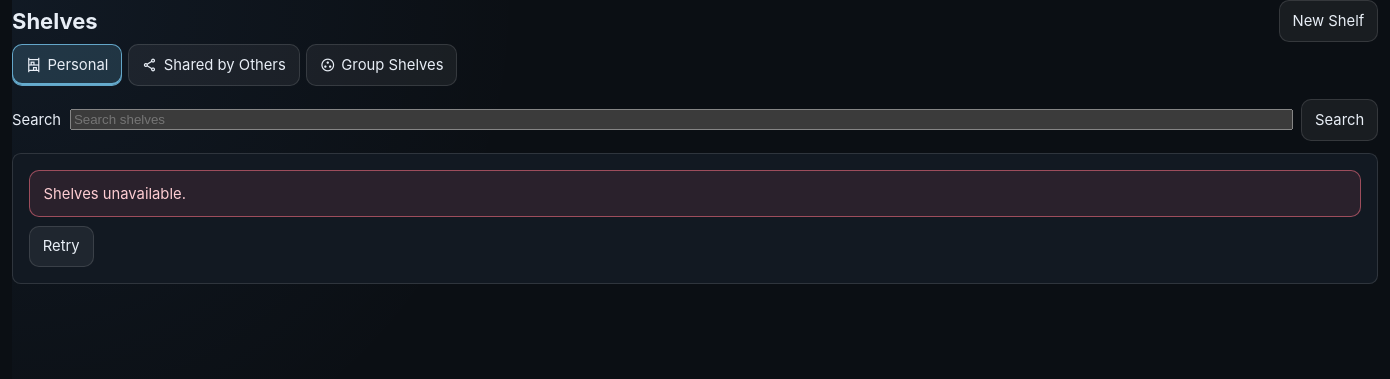
Test: ShelvesListOrchestrator › retries a failed Shelf request
Click the button "Retry" at (61, 247), box top-left (29, 226), bottom-right (94, 268)
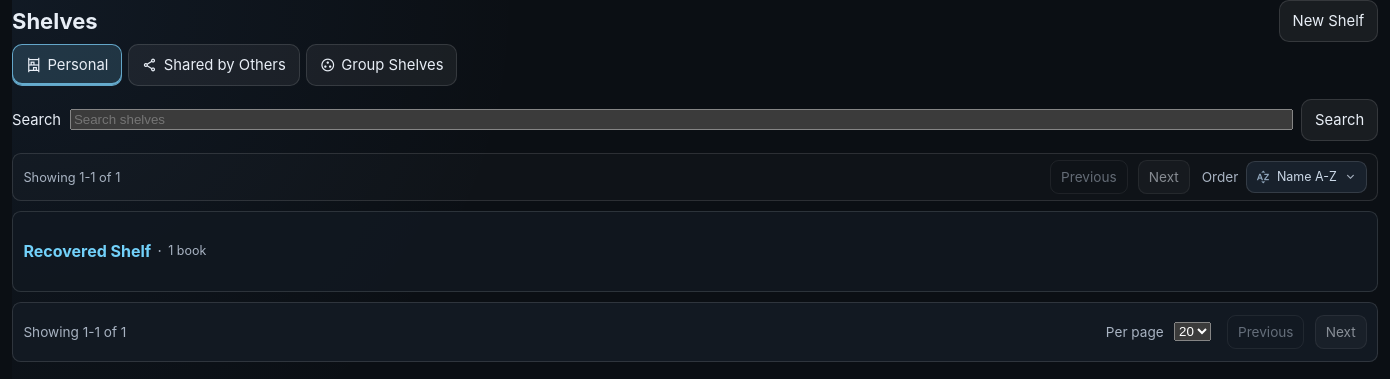
Result: the link to "/shelves/recovered" is shown at top-left (23, 241), bottom-right (151, 261)
